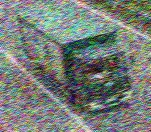truck: (16, 3, 135, 112)
